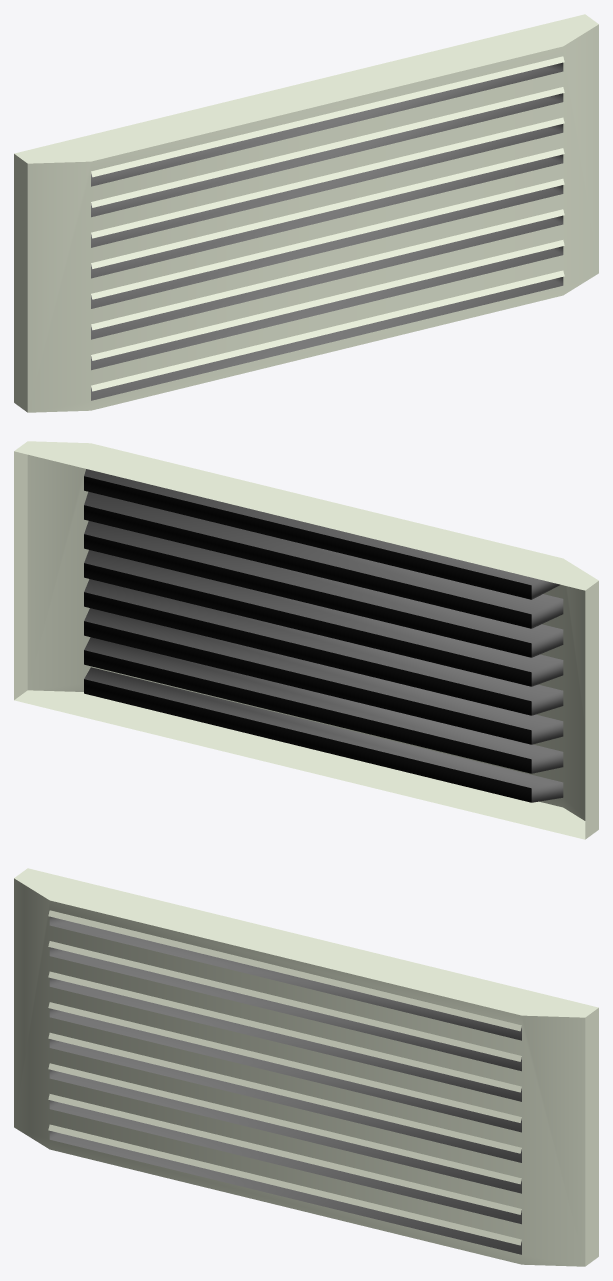
The model's file is basicVent.fbx.
3 renders of one model, top to bottom at view 1: azimuth 30°, elevation 25°; view 2: azimuth 150°, elevation 25°; view 3: azimuth 330°, elevation 25°, orthographic.
Visible parts, largest first — view 1: basicVent; view 2: basicVent; view 3: basicVent.
Boxes of the visible parts, box(x1,y1,x2,y2) form: basicVent: box(14, 14, 598, 412); basicVent: box(14, 441, 598, 839); basicVent: box(14, 868, 598, 1266).
Bounding box in the file's own units: 120 × 50 × 10.51.
